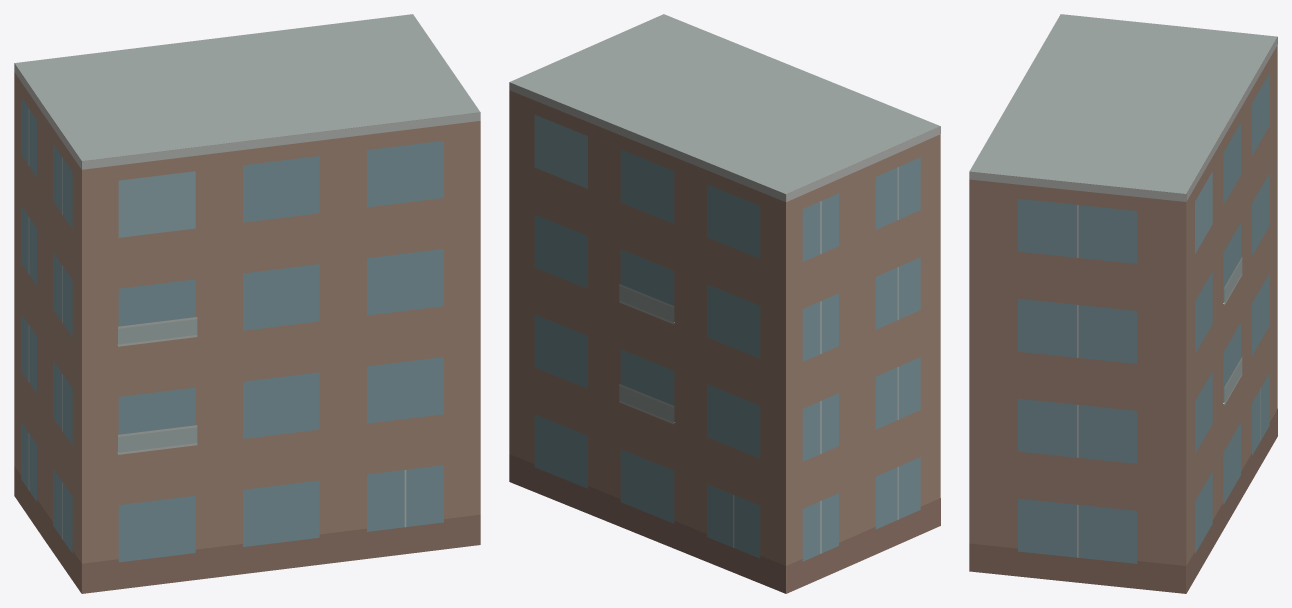
The model's file is residential-4c0b7614-920e-4434-9798-e4cd08a84437.glb.
3 renders of one model, left to right at view 1: azimuth 30°, elevation 25°; view 2: azimuth 150°, elevation 25°; view 3: azimuth 270°, elevation 25°, orthographic. The views are drawn at different scales.
Parts seen in each view (by area): view 1: residential-4c0b7614-920e-4434-9798-e4cd08a84437.tmp; view 2: residential-4c0b7614-920e-4434-9798-e4cd08a84437.tmp; view 3: residential-4c0b7614-920e-4434-9798-e4cd08a84437.tmp.
Boxes of the visible parts, <box> form: residential-4c0b7614-920e-4434-9798-e4cd08a84437.tmp: <box>14,14,480,593</box>; residential-4c0b7614-920e-4434-9798-e4cd08a84437.tmp: <box>509,14,940,593</box>; residential-4c0b7614-920e-4434-9798-e4cd08a84437.tmp: <box>969,14,1277,593</box>.
Size of the model in its own units: 11.79 by 12.2 by 8.54.
